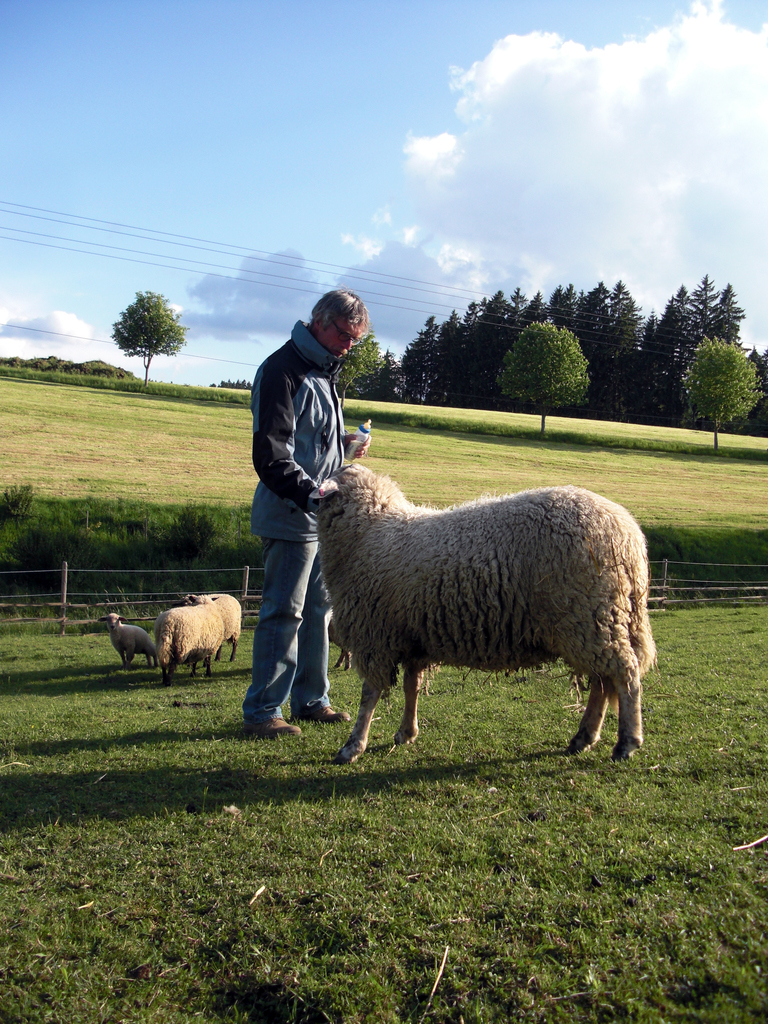sheep: (315, 464, 657, 763), (149, 593, 223, 688), (101, 609, 153, 660)
